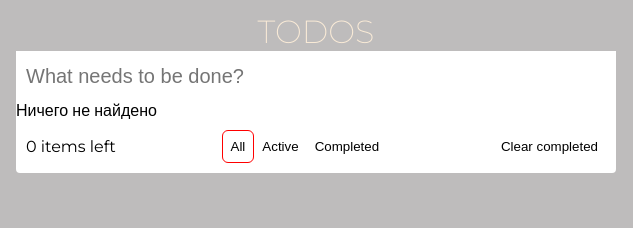
Scenario: Todo App › should add a task when pressing Enter
Note: Вводим новую задачу и нажимаем Enter
Type "New task" into the field with placeholder "What needs to be done?". click: (316, 76)
box: [16,51,616,101]
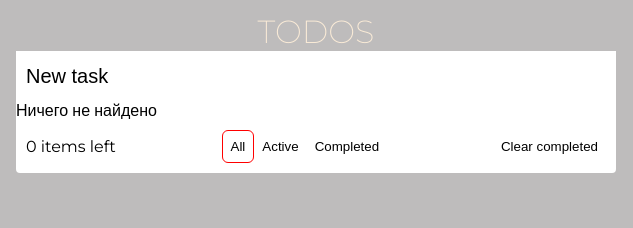
Press Enter in the field with placeholder "What needs to be done?", box [16,51,616,101]
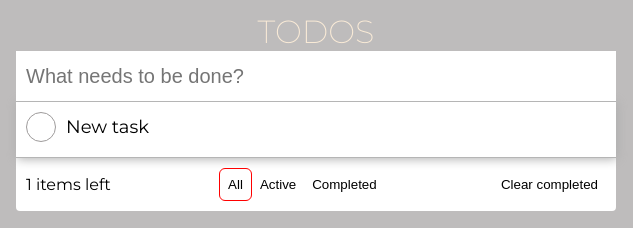
Check: the text "New task" is shown, box [66,116,149,138]
